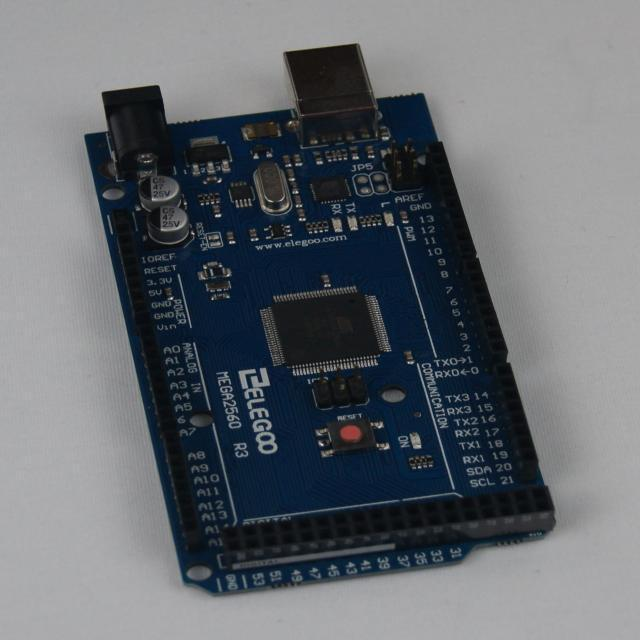Arduino Mega 2560 -Blue-: (87, 45, 555, 593)
